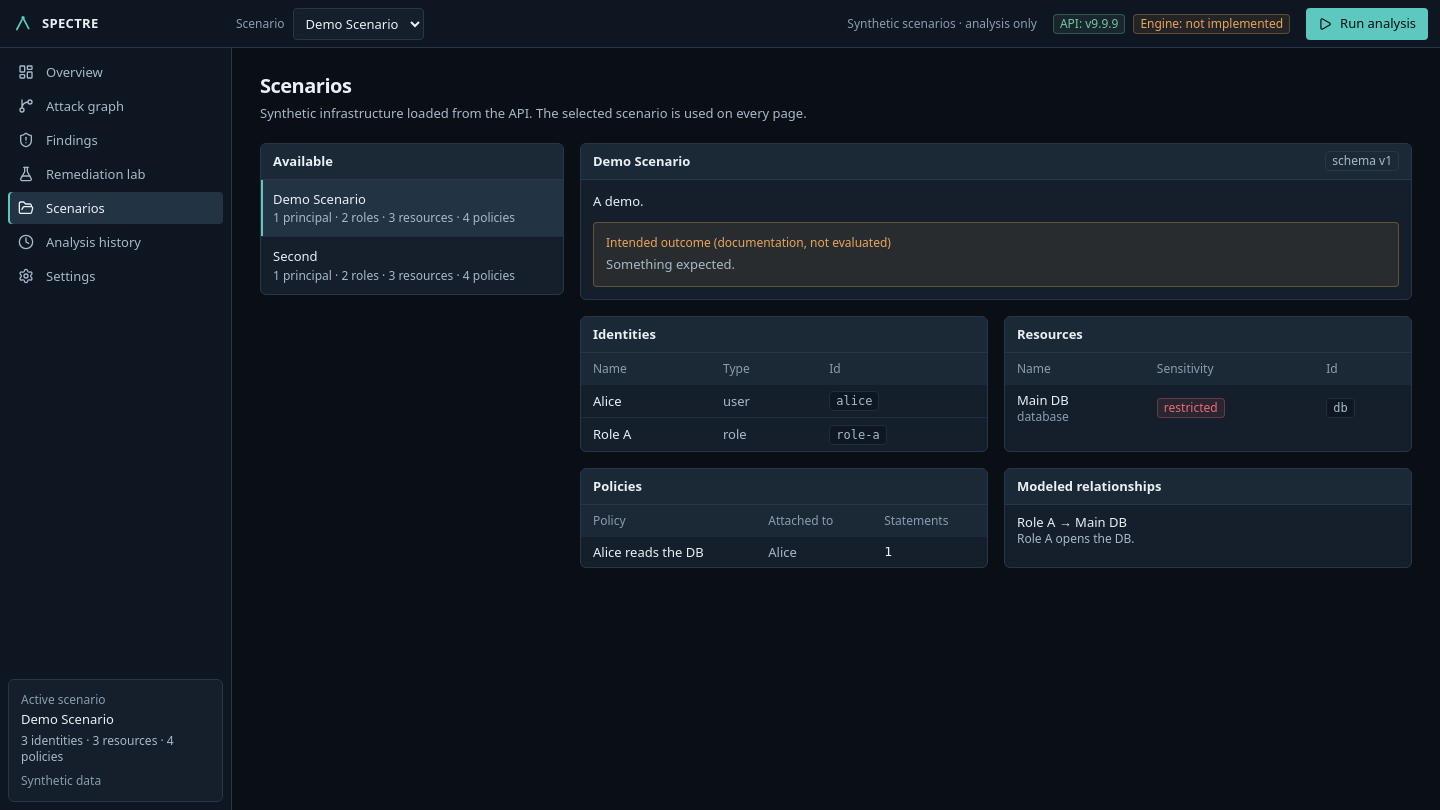
Test: ScenariosPage › selecting a scenario loads its detail
Click the button "Second 1 principal · 2 roles · 3 resources · 4 policies".
click(412, 265)  # box x1=261 y1=237 x2=563 y2=294
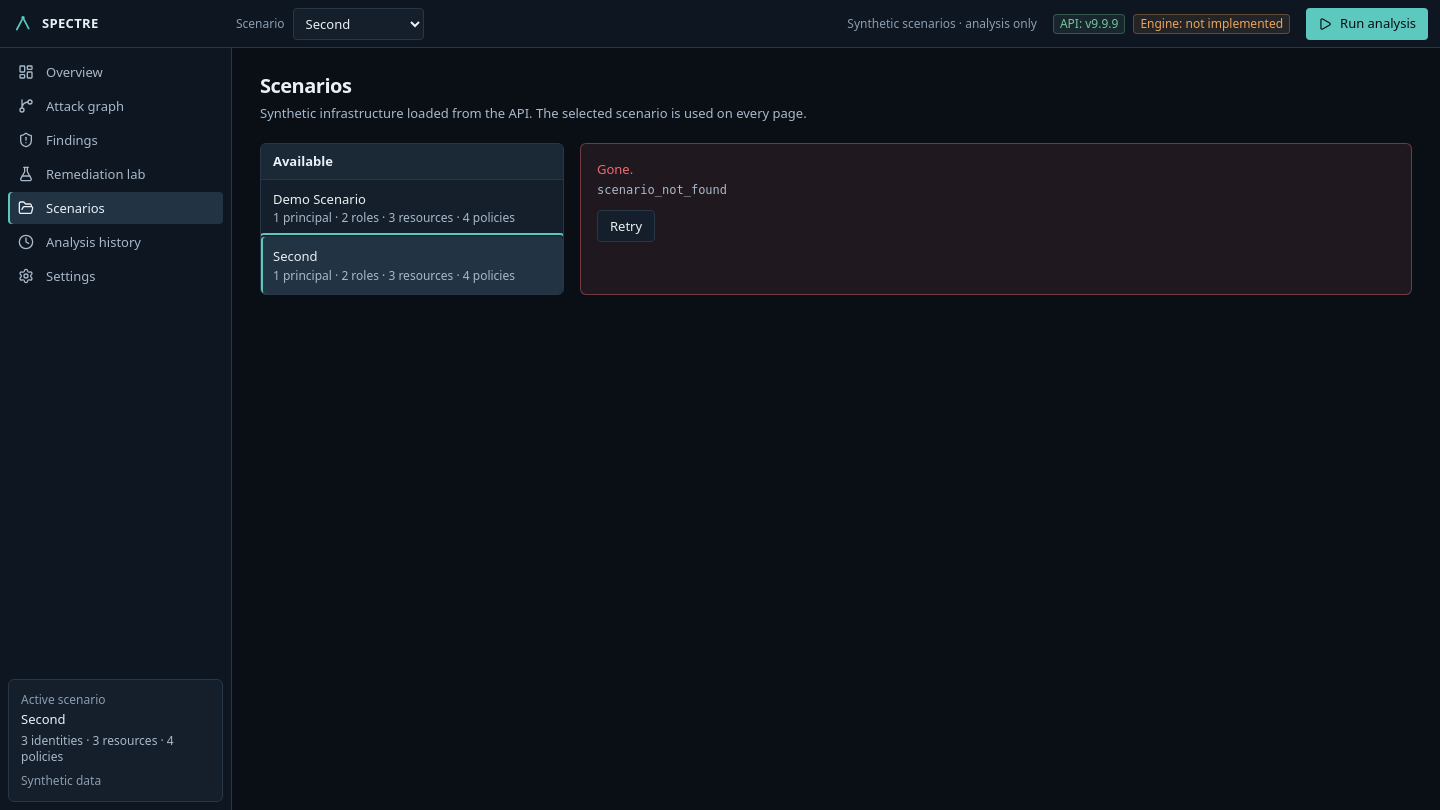
Expected: the text "Gone." is shown, x1=597 y1=160 x2=633 y2=178
